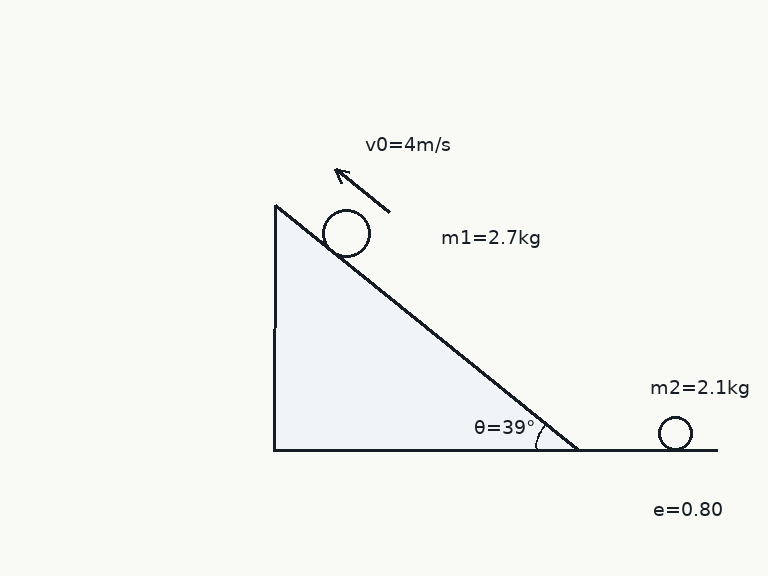ball: (320, 207, 372, 259), (656, 414, 694, 452)
ramp: (272, 204, 578, 452)
